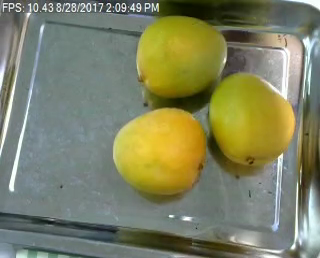Mango: (112, 105, 204, 194), (209, 73, 295, 165), (137, 14, 229, 98)
